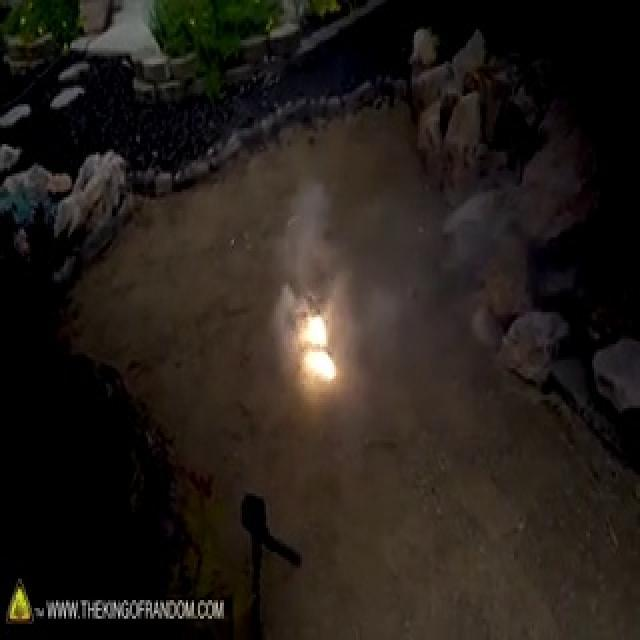fire: (295, 310, 353, 414)
